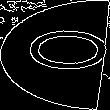O_E: (4, 32, 106, 78)
